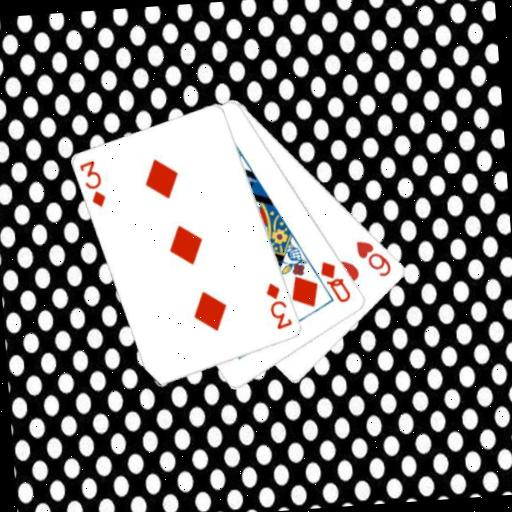3D: (263, 279, 295, 333), (76, 157, 108, 211)
6H: (353, 236, 394, 281)
QD: (317, 257, 354, 306)
